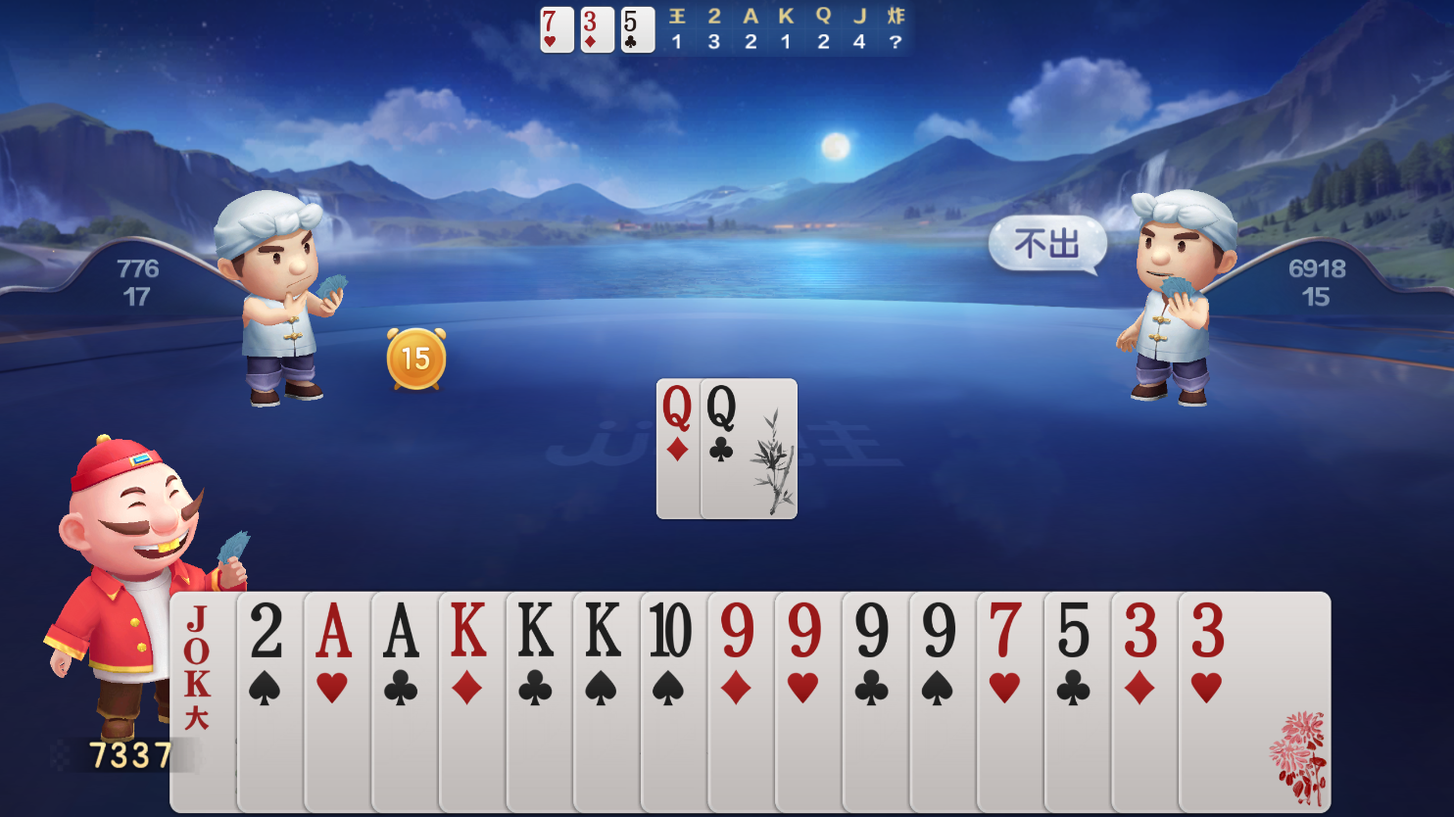A: (376, 597, 431, 666), (308, 598, 362, 664)
JOKER: (173, 598, 223, 703)
K: (443, 596, 496, 666), (511, 596, 564, 666), (578, 596, 629, 667)
Q: (656, 381, 698, 436), (703, 383, 742, 437)
five: (1051, 598, 1101, 668), (620, 6, 643, 36)
nine: (913, 598, 967, 668), (711, 598, 765, 667), (846, 598, 898, 667), (779, 598, 831, 665)
seven: (980, 597, 1031, 665), (538, 5, 563, 35)
ten: (644, 598, 698, 667)
three: (1116, 598, 1170, 667), (1183, 598, 1235, 664), (579, 7, 602, 36)
two: (241, 599, 294, 668)
